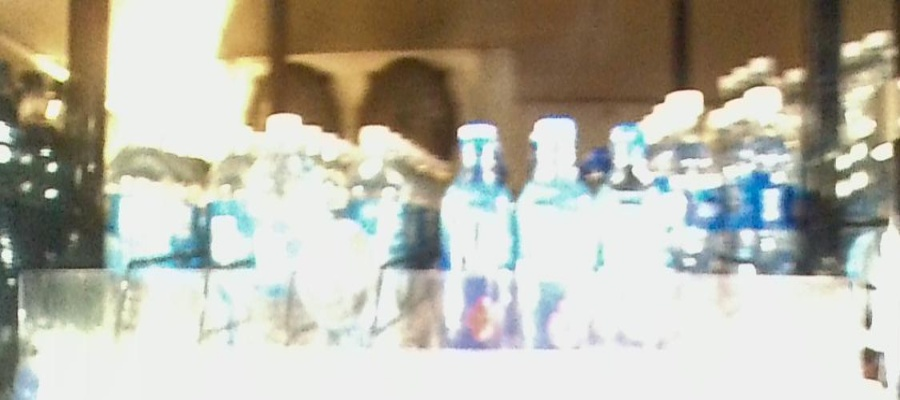bottle: (514, 118, 591, 343), (440, 115, 512, 352), (598, 123, 667, 343)
